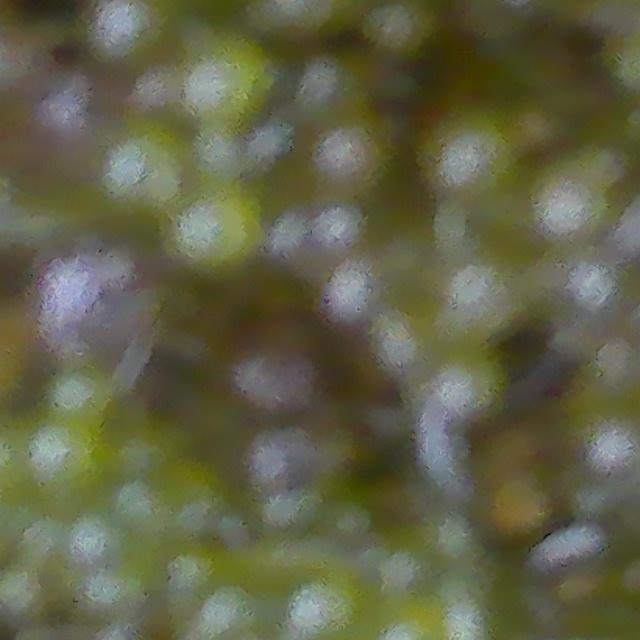SeaGrape: (83, 125, 187, 229), (172, 38, 277, 136), (416, 109, 516, 210), (223, 337, 326, 433), (165, 189, 262, 276), (306, 115, 396, 203), (83, 0, 173, 76), (31, 429, 117, 508), (47, 380, 123, 441)
